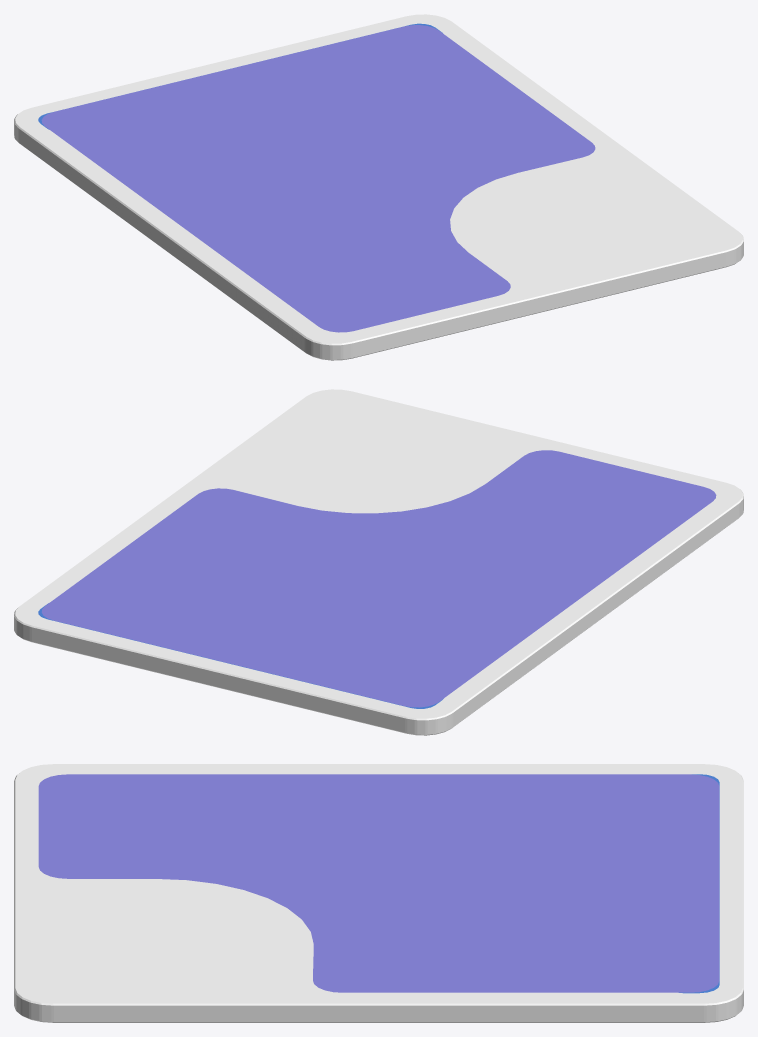
File: shopping_list.fbx
3 renders of one model, top to bottom at view 1: azimuth 30°, elevation 25°; view 2: azimuth 150°, elevation 25°; view 3: azimuth 270°, elevation 25°, orthographic. The views are drawn at different scales.
Visible parts, largest first — view 1: Explanation, List; view 2: Explanation, List; view 3: Explanation, List.
Boxes of the visible parts, bbox=[...] form: Explanation: bbox=[41, 25, 595, 332]; List: bbox=[14, 14, 743, 360]; Explanation: bbox=[41, 450, 716, 707]; List: bbox=[14, 389, 743, 735]; Explanation: bbox=[38, 774, 719, 992]; List: bbox=[14, 764, 743, 1022].
Bounding box in the file's own units: 17.19 × 0.6474 × 22.03.
